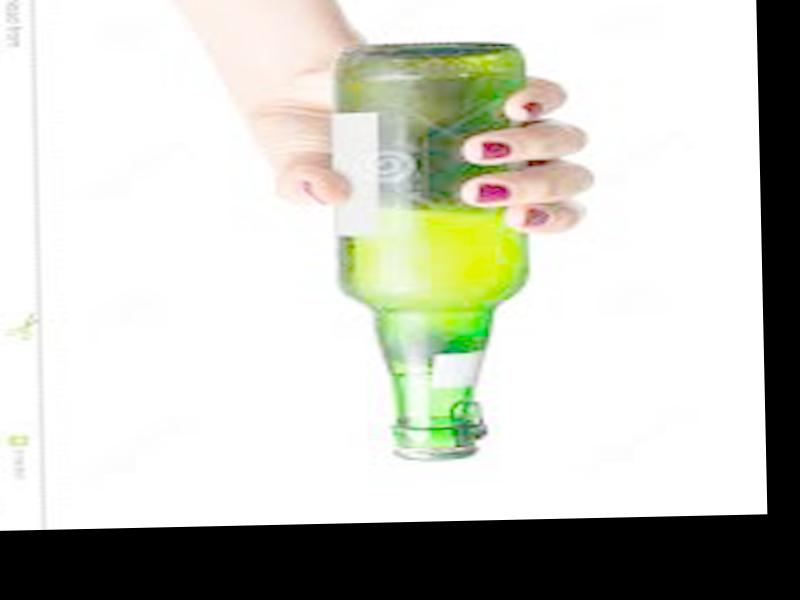Beer: (325, 42, 545, 463)
